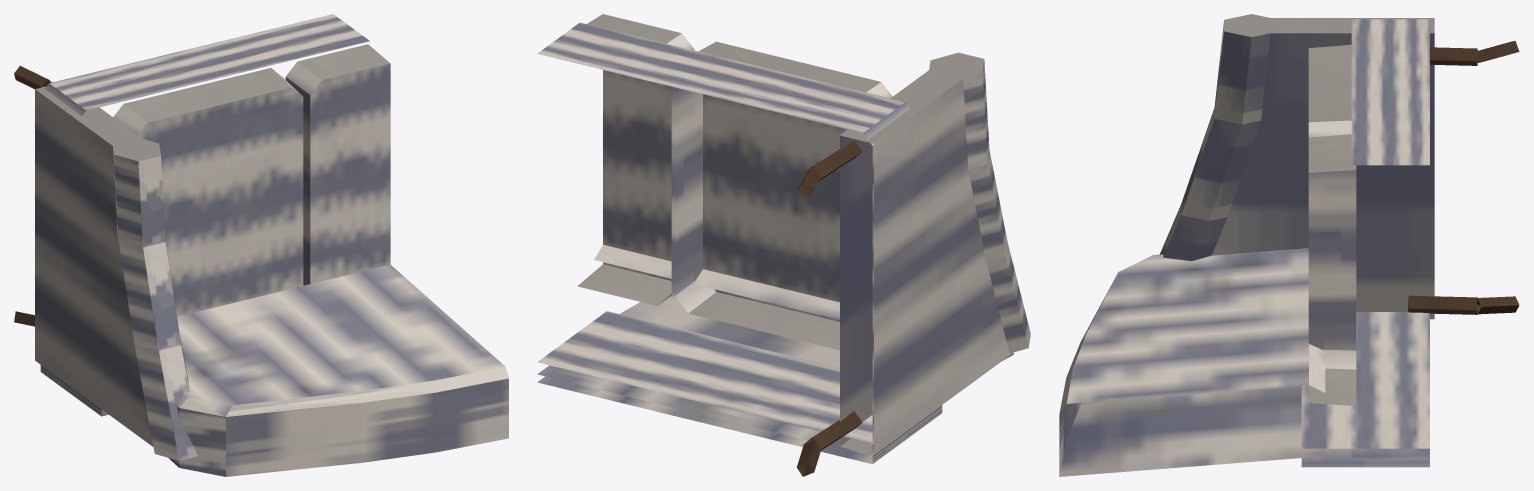
File: pz_sofa_seating_indoor_03_victorian_c3_0_0_fidelity_r1.obj
The picture shows the model from 3 angles, left to right: view 1: azimuth 30°, elevation 25°; view 2: azimuth 150°, elevation 25°; view 3: azimuth 270°, elevation 25°; orthographic projection. The views are drawn at different scales.
Parts seen in each view (by area): view 1: pz_sofa_seating_indoor_03_victorian_c3_0_0__sculpted_back__back, pz_sofa_seating_indoor_03_victorian_c3_0_0__seat_0__seat, pz_sofa_seating_indoor_03_victorian_c3_0_0__curved_victorian_sid, pz_sofa_seating_indoor_03_victorian_c3_0_0__seat_1__seat, pz_sofa_seating_indoor_03_victorian_c3_0_0__lower_body__body, pz_sofa_seating_indoor_03_victorian_c3_0_0__victorian_roll_-1_2_, pz_sofa_seating_indoor_03_victorian_c3_0_0__victorian_roll_-1_1_, pz_sofa_seating_indoor_03_victorian_c3_0_0__victorian_roll_-1_0_, pz_sofa_seating_indoor_03_victorian_c3_0_0__sculpted_back__frame, pz_sofa_seating_indoor_03_victorian_c3_0_0__rear_body_bridge__bo; view 2: pz_sofa_seating_indoor_03_victorian_c3_0_0__curved_victorian_sid, pz_sofa_seating_indoor_03_victorian_c3_0_0__seat_0__seat, pz_sofa_seating_indoor_03_victorian_c3_0_0__rear_body_bridge__bo, pz_sofa_seating_indoor_03_victorian_c3_0_0__lower_body__body, pz_sofa_seating_indoor_03_victorian_c3_0_0__seat_1__seat, pz_sofa_seating_indoor_03_victorian_c3_0_0__sculpted_back__back, pz_sofa_seating_indoor_03_victorian_c3_0_0__sculpted_back__frame, pz_sofa_seating_indoor_03_victorian_c3_0_0__victorian_roll_-1_2_, pz_sofa_seating_indoor_03_victorian_c3_0_0__victorian_roll_-1_0_, pz_sofa_seating_indoor_03_victorian_c3_0_0__victorian_roll_-1_1_, pz_sofa_seating_indoor_03_victorian_c3_0_0__curved_foot_-1_1_1__, pz_sofa_seating_indoor_03_victorian_c3_0_0__curved_foot_-1_-1_1_ (+1 smaller); view 3: pz_sofa_seating_indoor_03_victorian_c3_0_0__sculpted_back__back, pz_sofa_seating_indoor_03_victorian_c3_0_0__curved_victorian_sid, pz_sofa_seating_indoor_03_victorian_c3_0_0__rear_body_bridge__bo, pz_sofa_seating_indoor_03_victorian_c3_0_0__lower_body__body, pz_sofa_seating_indoor_03_victorian_c3_0_0__seat_1__seat, pz_sofa_seating_indoor_03_victorian_c3_0_0__victorian_roll_-1_2_, pz_sofa_seating_indoor_03_victorian_c3_0_0__victorian_roll_-1_1_, pz_sofa_seating_indoor_03_victorian_c3_0_0__seat_0__seat, pz_sofa_seating_indoor_03_victorian_c3_0_0__victorian_roll_-1_0_, pz_sofa_seating_indoor_03_victorian_c3_0_0__curved_foot_-1_-1_1_, pz_sofa_seating_indoor_03_victorian_c3_0_0__sculpted_back__frame, pz_sofa_seating_indoor_03_victorian_c3_0_0__curved_foot_-1_1_1__ (+2 smaller).
Part boxes in pixels (x1,y1,x2,y2): pz_sofa_seating_indoor_03_victorian_c3_0_0__sculpted_back__back: (168,264,508,476); pz_sofa_seating_indoor_03_victorian_c3_0_0__seat_0__seat: (113,68,303,316); pz_sofa_seating_indoor_03_victorian_c3_0_0__curved_victorian_sid: (35,86,153,446); pz_sofa_seating_indoor_03_victorian_c3_0_0__seat_1__seat: (285,44,390,285); pz_sofa_seating_indoor_03_victorian_c3_0_0__lower_body__body: (45,14,369,115); pz_sofa_seating_indoor_03_victorian_c3_0_0__victorian_roll_-1_2_: (112,138,165,247); pz_sofa_seating_indoor_03_victorian_c3_0_0__victorian_roll_-1_1_: (118,241,181,350); pz_sofa_seating_indoor_03_victorian_c3_0_0__victorian_roll_-1_0_: (134,336,198,460); pz_sofa_seating_indoor_03_victorian_c3_0_0__sculpted_back__frame: (177,366,508,416); pz_sofa_seating_indoor_03_victorian_c3_0_0__rear_body_bridge__bo: (40,365,108,416); pz_sofa_seating_indoor_03_victorian_c3_0_0__curved_victorian_sid: (840,68,1013,454); pz_sofa_seating_indoor_03_victorian_c3_0_0__seat_0__seat: (674,41,892,350); pz_sofa_seating_indoor_03_victorian_c3_0_0__rear_body_bridge__bo: (537,311,942,464); pz_sofa_seating_indoor_03_victorian_c3_0_0__lower_body__body: (537,22,910,453); pz_sofa_seating_indoor_03_victorian_c3_0_0__seat_1__seat: (577,14,694,305); pz_sofa_seating_indoor_03_victorian_c3_0_0__sculpted_back__back: (619,293,1013,367); pz_sofa_seating_indoor_03_victorian_c3_0_0__sculpted_back__frame: (594,244,839,319); pz_sofa_seating_indoor_03_victorian_c3_0_0__victorian_roll_-1_2_: (929,52,989,169); pz_sofa_seating_indoor_03_victorian_c3_0_0__victorian_roll_-1_0_: (986,243,1030,353); pz_sofa_seating_indoor_03_victorian_c3_0_0__victorian_roll_-1_1_: (968,150,1007,261); pz_sofa_seating_indoor_03_victorian_c3_0_0__curved_foot_-1_1_1__: (804,140,862,182); pz_sofa_seating_indoor_03_victorian_c3_0_0__curved_foot_-1_-1_1_: (804,411,862,450); pz_sofa_seating_indoor_03_victorian_c3_0_0__sculpted_back__back: (1059,248,1325,476); pz_sofa_seating_indoor_03_victorian_c3_0_0__curved_victorian_sid: (1211,18,1434,319); pz_sofa_seating_indoor_03_victorian_c3_0_0__rear_body_bridge__bo: (1301,312,1429,467); pz_sofa_seating_indoor_03_victorian_c3_0_0__lower_body__body: (1351,19,1429,459); pz_sofa_seating_indoor_03_victorian_c3_0_0__seat_1__seat: (1308,134,1356,405); pz_sofa_seating_indoor_03_victorian_c3_0_0__victorian_roll_-1_2_: (1214,14,1279,124); pz_sofa_seating_indoor_03_victorian_c3_0_0__victorian_roll_-1_1_: (1181,107,1260,220); pz_sofa_seating_indoor_03_victorian_c3_0_0__seat_0__seat: (1308,44,1351,137); pz_sofa_seating_indoor_03_victorian_c3_0_0__victorian_roll_-1_0_: (1159,204,1227,261); pz_sofa_seating_indoor_03_victorian_c3_0_0__curved_foot_-1_-1_1_: (1407,295,1477,314); pz_sofa_seating_indoor_03_victorian_c3_0_0__sculpted_back__frame: (1059,281,1325,412); pz_sofa_seating_indoor_03_victorian_c3_0_0__curved_foot_-1_1_1__: (1430,47,1477,65).
Size of the model in its own units: 0.8677 by 0.8075 by 1.08.
1 material, 1 textured.
